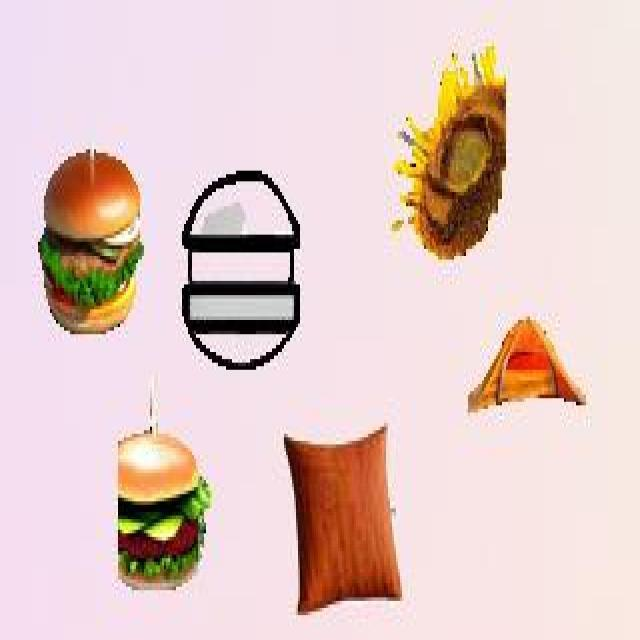Other Objects: (180, 166, 303, 371), (282, 424, 404, 618), (37, 145, 144, 335), (118, 430, 210, 592)
